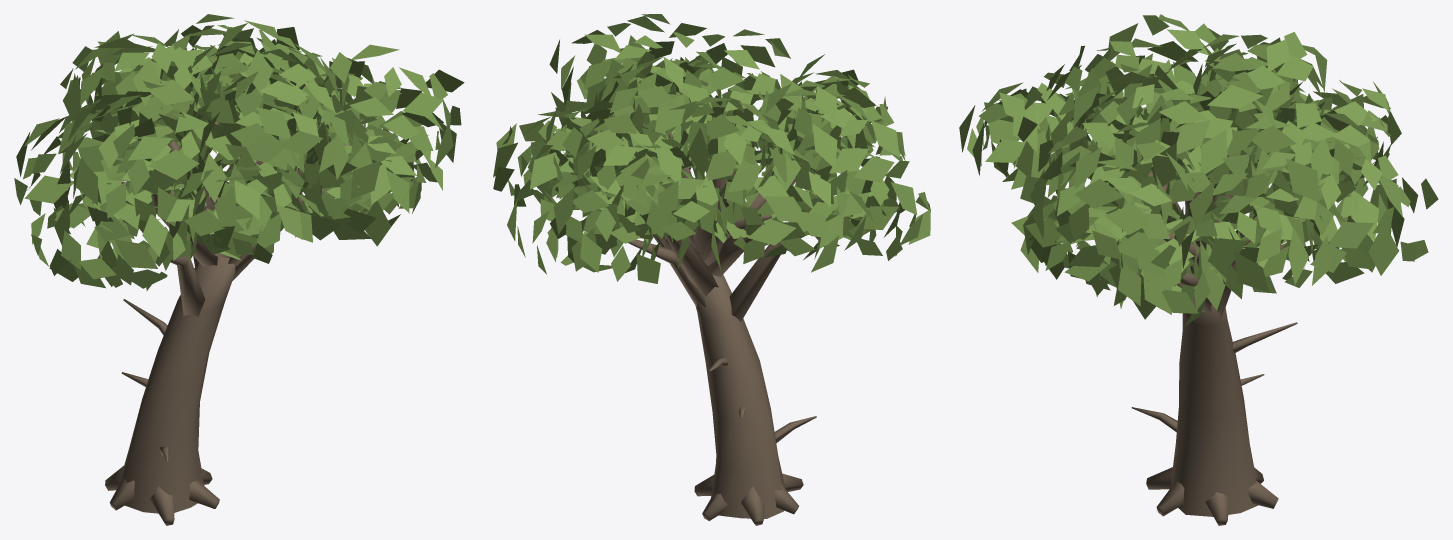
File: oak-old.glb
3 renders of one model, left to right at view 1: azimuth 30°, elevation 25°; view 2: azimuth 150°, elevation 25°; view 3: azimuth 270°, elevation 25°, orthographic. The views are drawn at different scales.
Visible parts, largest first — view 1: tree_oak-old_LOD0; view 2: tree_oak-old_LOD0; view 3: tree_oak-old_LOD0.
Part boxes in pixels (box(x1,y1,x2,y2)): tree_oak-old_LOD0: box(14, 14, 464, 525); tree_oak-old_LOD0: box(493, 14, 930, 525); tree_oak-old_LOD0: box(959, 14, 1438, 525).
Size of the model in its own units: 10.3 by 11.06 by 10.05.
